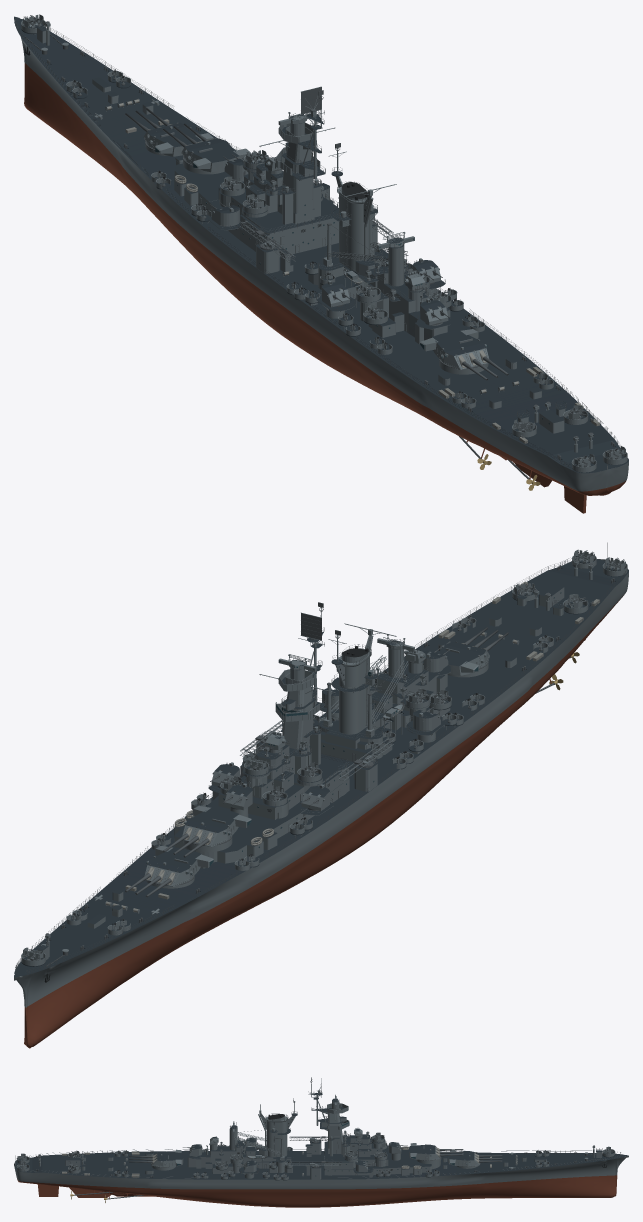
Rendered from alaska.glb.
The picture shows the model from 3 angles, top to bottom: view 1: azimuth 30°, elevation 25°; view 2: azimuth 150°, elevation 25°; view 3: azimuth 270°, elevation 25°; orthographic projection. The views are drawn at different scales.
Visible parts, largest first — view 1: Blueprint lofted hull, funnel.mesh, main-3.yaw.mesh, platform-rails.mesh, main-2.yaw.mesh, deckhouse-040.mesh, deckhouse-015.mesh, deckhouse-014.mesh, main-1.yaw.mesh, deckhouse-094.mesh, deckhouse-053.mesh, deck-rails.mesh (+2 smaller); view 2: Blueprint lofted hull, funnel.mesh, deckhouse-014.mesh, main-2.yaw.mesh, main-1.yaw.mesh, platform-rails.mesh, deckhouse-094.mesh, deckhouse-040.mesh, main-3.yaw.mesh, deck-rails.mesh, deckhouse-015.mesh, deckhouse-095.mesh (+1 smaller); view 3: Blueprint lofted hull, funnel.mesh, deckhouse-014.mesh, deckhouse-094.mesh, deckhouse-015.mesh, deck-rails.mesh, main-3.yaw.mesh, main-2.yaw.mesh, main-1.yaw.mesh, platform-rails.mesh, deckhouse-040.mesh, deckhouse-114.mesh (+7 smaller).
Boxes of the visible parts, <box> form: Blueprint lofted hull: <box>14,16,628,495</box>; funnel.mesh: <box>331,182,377,271</box>; main-3.yaw.mesh: <box>420,329,488,370</box>; platform-rails.mesh: <box>37,21,566,418</box>; main-2.yaw.mesh: <box>181,138,251,172</box>; deckhouse-040.mesh: <box>218,181,338,245</box>; deckhouse-015.mesh: <box>174,173,338,256</box>; deckhouse-014.mesh: <box>174,163,229,210</box>; main-1.yaw.mesh: <box>143,122,213,156</box>; deckhouse-094.mesh: <box>318,252,447,340</box>; deckhouse-053.mesh: <box>241,197,338,254</box>; deck-rails.mesh: <box>15,16,621,467</box>; Blueprint lofted hull: <box>14,559,628,1048</box>; funnel.mesh: <box>331,646,373,734</box>; deckhouse-014.mesh: <box>174,804,284,863</box>; main-2.yaw.mesh: <box>182,806,251,846</box>; main-1.yaw.mesh: <box>144,846,213,886</box>; platform-rails.mesh: <box>37,590,564,950</box>; deckhouse-094.mesh: <box>318,674,447,758</box>; deckhouse-040.mesh: <box>218,765,349,819</box>; main-3.yaw.mesh: <box>438,641,489,675</box>; deck-rails.mesh: <box>15,558,625,974</box>; deckhouse-015.mesh: <box>178,778,349,859</box>; deckhouse-095.mesh: <box>321,676,447,761</box>; Blueprint lofted hull: <box>14,1151,628,1207</box>; funnel.mesh: <box>266,1114,290,1156</box>; deckhouse-014.mesh: <box>388,1149,440,1175</box>; deckhouse-094.mesh: <box>187,1151,291,1172</box>; deckhouse-015.mesh: <box>324,1164,427,1175</box>; deck-rails.mesh: <box>24,1148,620,1179</box>; main-3.yaw.mesh: <box>151,1149,183,1167</box>; main-2.yaw.mesh: <box>409,1143,440,1160</box>; main-1.yaw.mesh: <box>448,1150,479,1166</box>; platform-rails.mesh: <box>82,1098,602,1173</box>; deckhouse-040.mesh: <box>324,1145,388,1169</box>; deckhouse-114.mesh: <box>210,1146,241,1162</box>.
Size of the model in its own units: 28.22 by 52.9 by 247.
12 materials, 8 textured.
